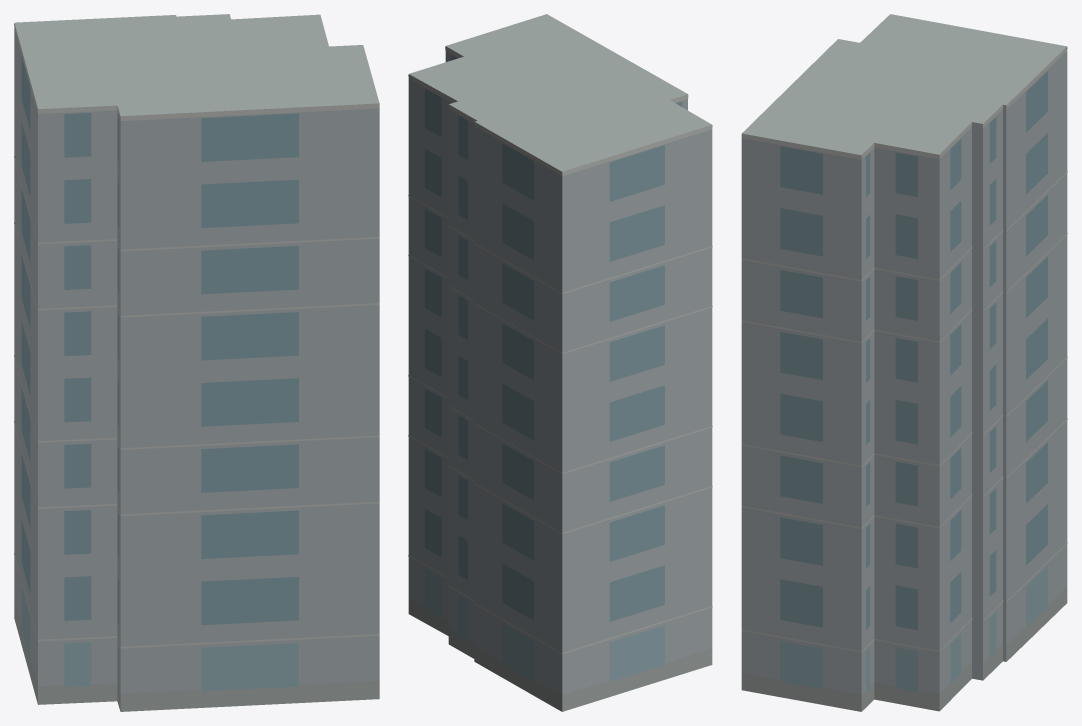
File: survey-upis-33004686.glb
3 renders of one model, left to right at view 1: azimuth 30°, elevation 25°; view 2: azimuth 150°, elevation 25°; view 3: azimuth 270°, elevation 25°, orthographic. The views are drawn at different scales.
Parts seen in each view (by area): view 1: survey-upis-33004686.tmp; view 2: survey-upis-33004686.tmp; view 3: survey-upis-33004686.tmp.
Part boxes in pixels (x1=…): survey-upis-33004686.tmp: x1=14, y1=14, x2=379, y2=711; survey-upis-33004686.tmp: x1=408, y1=14, x2=712, y2=711; survey-upis-33004686.tmp: x1=741, y1=14, x2=1067, y2=711.
Bounding box in the file's own units: 16.13 × 29.6 × 15.71.
